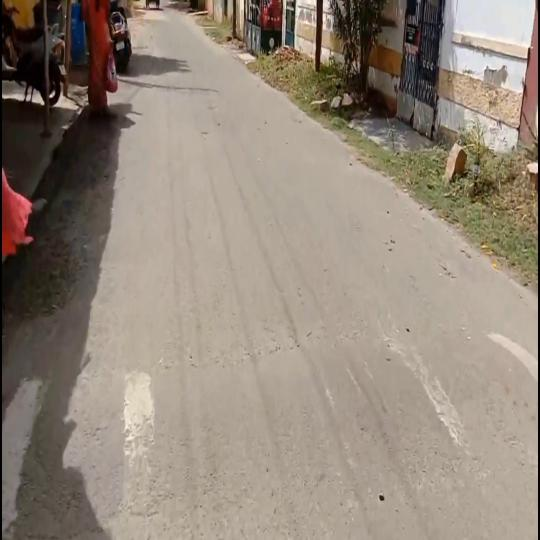Speed Bump: (2, 320, 537, 540)
